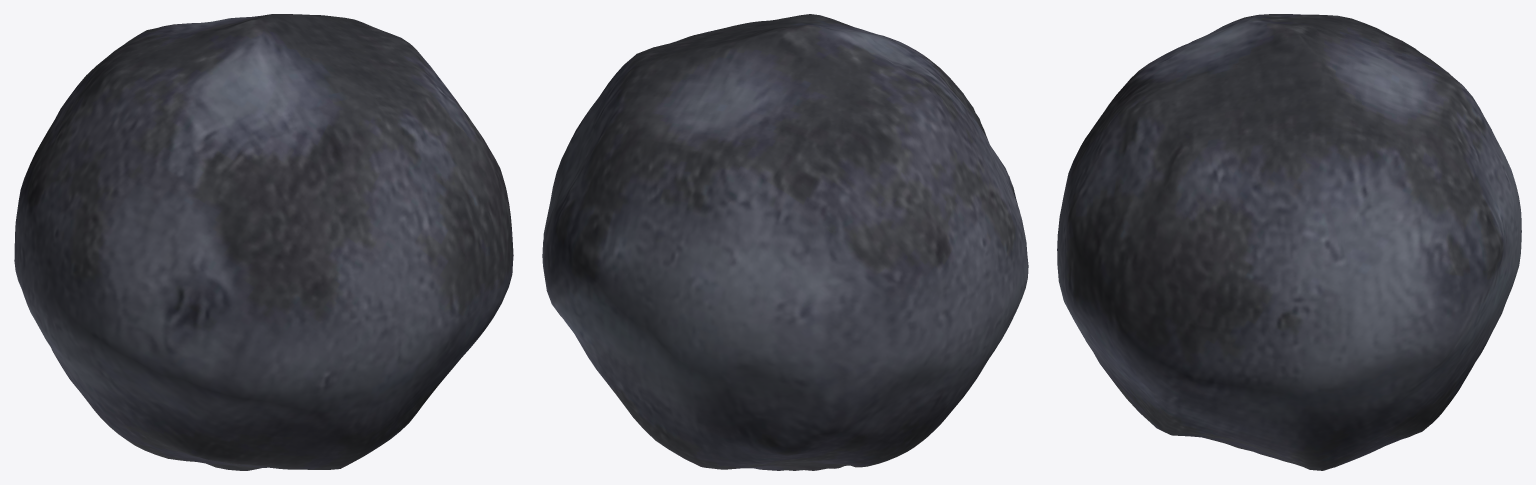
Rendered from f7dca9240dcd_Asteroides__3d_asse.fbx.
3 renders of one model, left to right at view 1: azimuth 30°, elevation 25°; view 2: azimuth 150°, elevation 25°; view 3: azimuth 270°, elevation 25°, orthographic. The views are drawn at different scales.
Visible parts, largest first — view 1: mesh; view 2: mesh; view 3: mesh.
Boxes of the visible parts, <box> form: mesh: <box>14,14,513,470</box>; mesh: <box>542,14,1028,470</box>; mesh: <box>1057,14,1521,470</box>.
Size of the model in its own units: 99.97 by 98.72 by 97.55.
